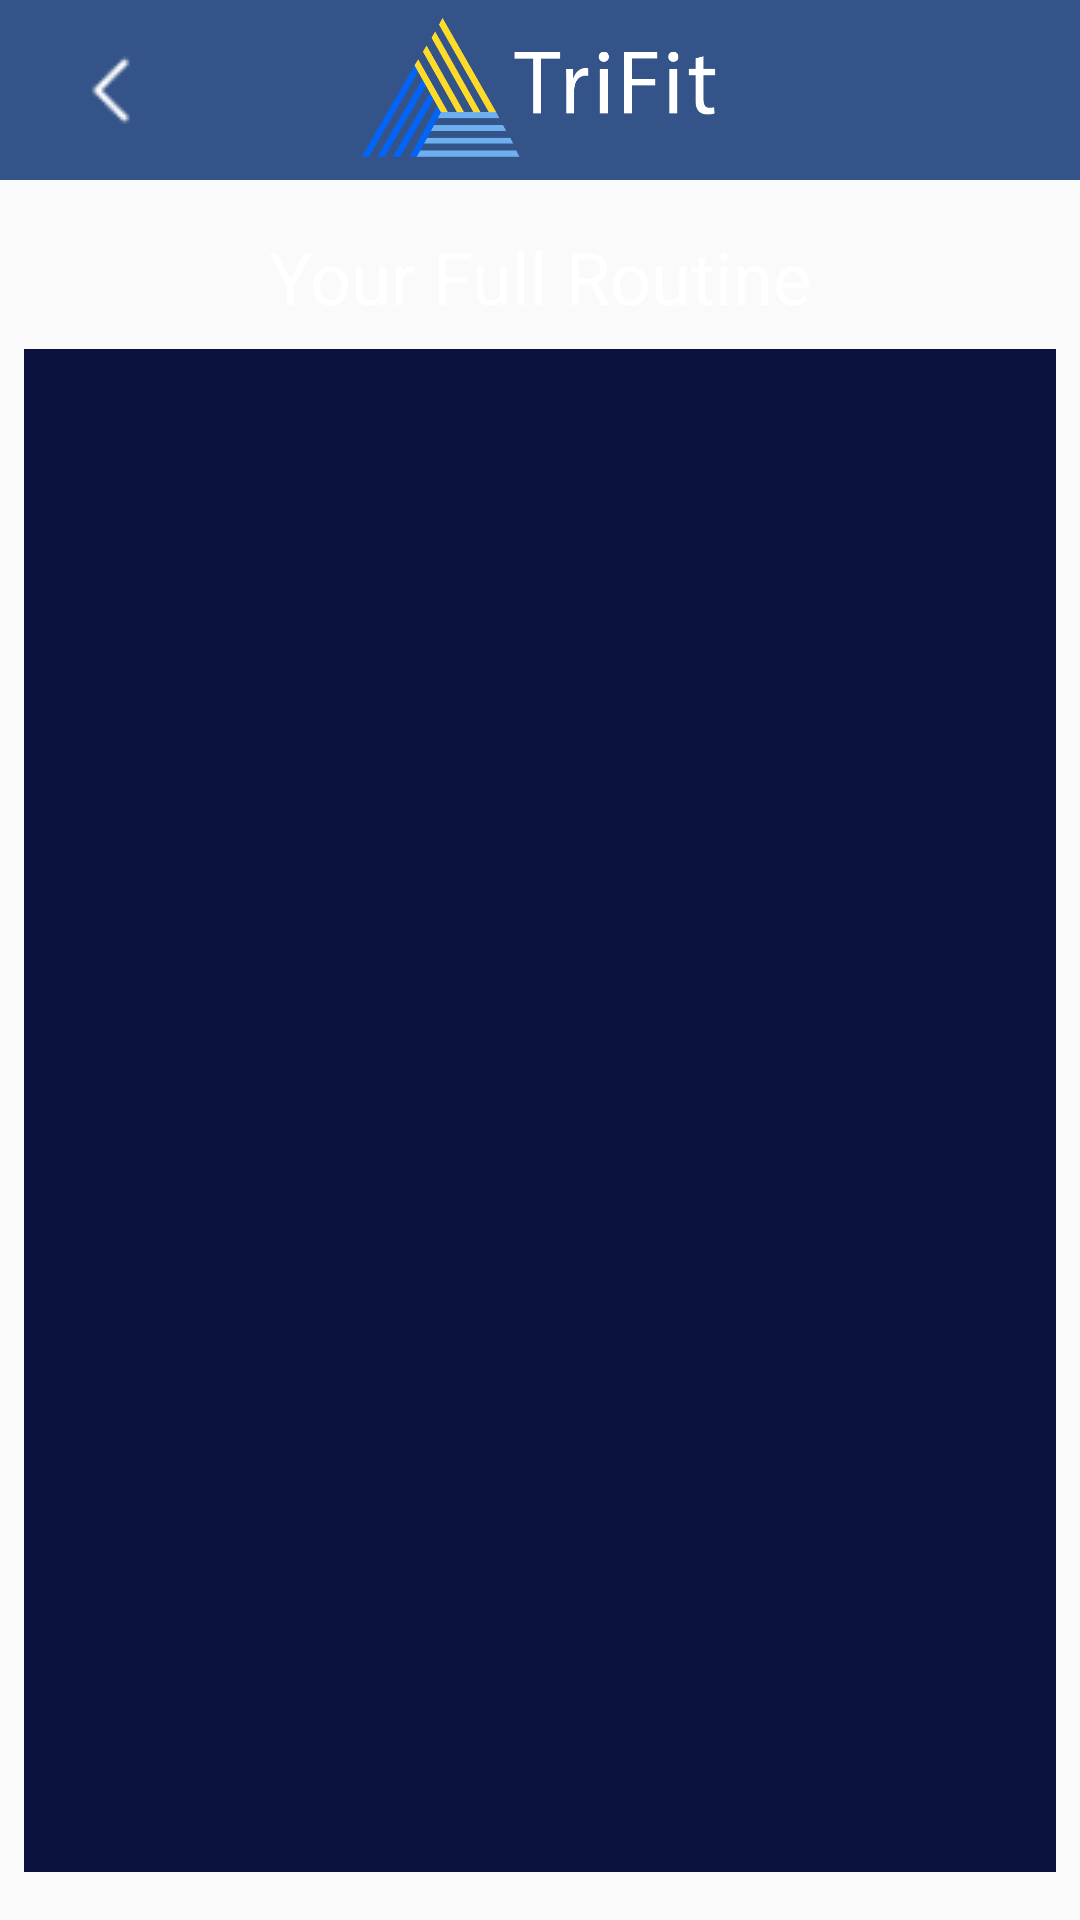

Icon bounding boxes for this 1080x1920 phone screenshot, format box=[x1, y1, x2, y2]:
back arrow: box=[92, 57, 130, 123]
